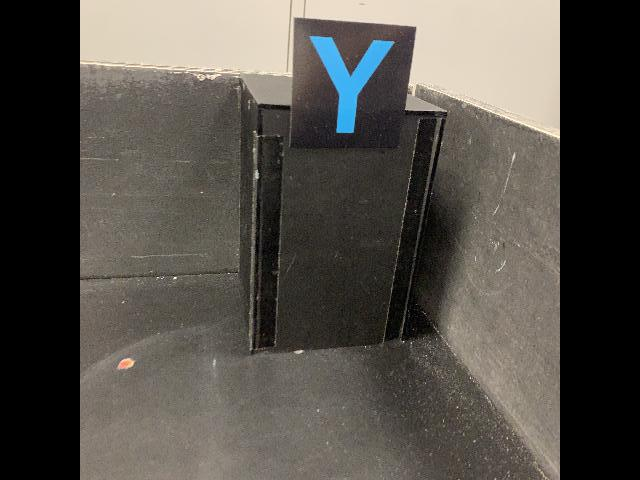y: (286, 15, 417, 151)
